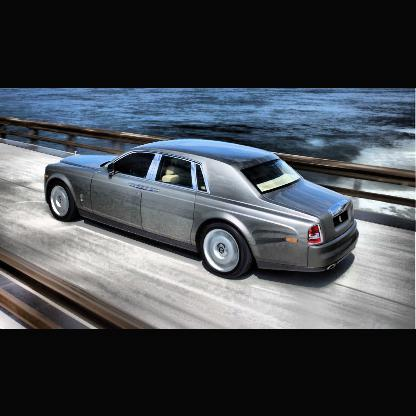Rolls-Royce Phantom Sedan 2012: (46, 141, 360, 282)
